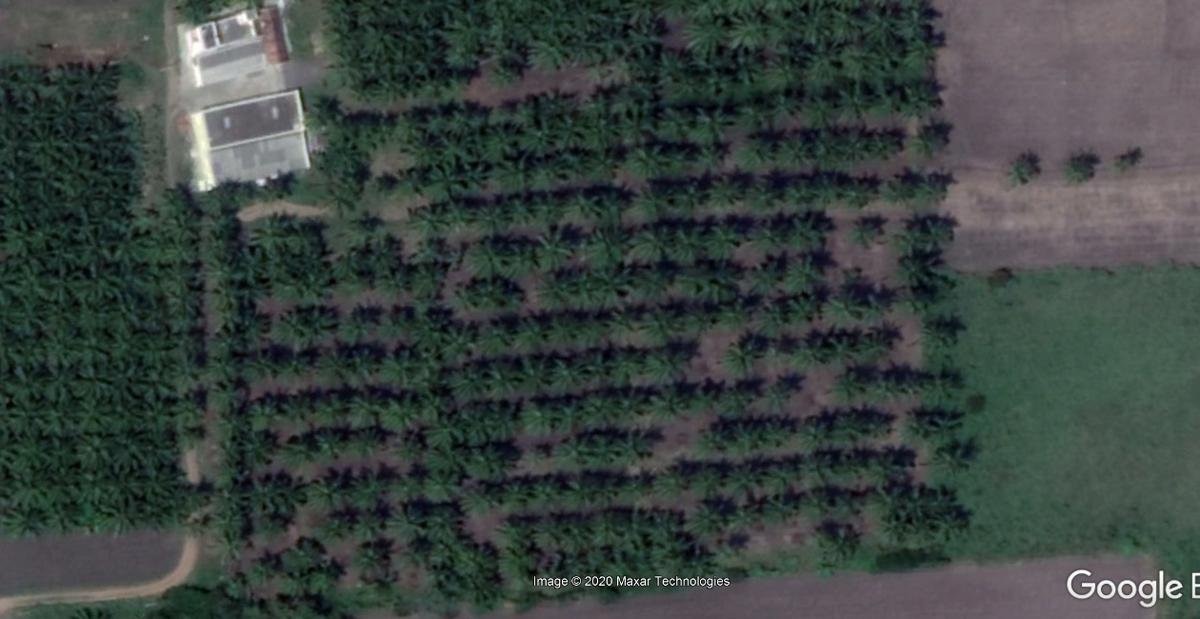coconut: (529, 219, 578, 277), (582, 222, 633, 272), (251, 210, 302, 258), (732, 1, 780, 51), (451, 539, 503, 584), (578, 263, 628, 307), (838, 41, 891, 82), (543, 103, 588, 150), (501, 312, 550, 355), (63, 390, 115, 430), (612, 94, 652, 146), (319, 133, 366, 177), (524, 31, 574, 72), (312, 339, 351, 391), (542, 304, 589, 346), (725, 334, 773, 375), (752, 289, 800, 330), (528, 512, 576, 553), (693, 264, 742, 304), (606, 340, 650, 384), (510, 118, 553, 163), (462, 236, 507, 279), (686, 22, 732, 64), (807, 479, 859, 516), (442, 359, 482, 407), (134, 493, 183, 532), (380, 343, 420, 390), (421, 135, 476, 169), (722, 463, 775, 498), (76, 258, 121, 299), (244, 343, 285, 388), (254, 473, 295, 518), (789, 208, 829, 254), (520, 394, 569, 431), (67, 439, 116, 475), (483, 357, 525, 399), (446, 12, 489, 53), (480, 117, 520, 161), (633, 261, 673, 305), (361, 228, 401, 272), (430, 409, 466, 457), (307, 386, 347, 429), (303, 467, 346, 507), (406, 198, 443, 244), (357, 19, 400, 58), (130, 459, 179, 493), (784, 258, 829, 295), (647, 380, 687, 421), (68, 210, 110, 249), (632, 223, 675, 261), (565, 472, 605, 512), (159, 209, 206, 243), (898, 254, 941, 291), (724, 376, 769, 411), (584, 509, 629, 544), (3, 507, 52, 539), (653, 104, 693, 143), (3, 330, 44, 368), (423, 453, 465, 490), (911, 125, 954, 161), (782, 3, 825, 39), (902, 30, 942, 68), (897, 4, 943, 37), (920, 317, 961, 354), (83, 60, 124, 97), (642, 304, 679, 345), (534, 267, 571, 308), (1, 400, 43, 436), (723, 504, 765, 540), (818, 524, 861, 559), (320, 178, 367, 210), (827, 282, 866, 320), (796, 408, 834, 447), (870, 447, 909, 485), (16, 59, 52, 100), (619, 0, 660, 36), (645, 341, 687, 376), (932, 437, 975, 471), (907, 79, 945, 117), (827, 0, 866, 37), (830, 366, 869, 403), (739, 132, 778, 169), (652, 462, 691, 499), (529, 470, 566, 509), (579, 390, 619, 426), (276, 304, 321, 336), (630, 182, 671, 217), (642, 513, 691, 542), (625, 148, 668, 181), (340, 299, 372, 343), (760, 55, 798, 92), (707, 222, 745, 259), (614, 429, 652, 466), (410, 259, 448, 296), (922, 213, 957, 253), (480, 320, 521, 354), (920, 362, 957, 399), (763, 86, 800, 123), (670, 225, 707, 262), (687, 499, 724, 536), (441, 322, 478, 359), (919, 167, 955, 205), (8, 267, 44, 305), (548, 350, 586, 386), (283, 430, 319, 468), (842, 82, 877, 121), (570, 191, 609, 226), (615, 379, 650, 418), (859, 5, 900, 38), (353, 539, 394, 572), (161, 289, 206, 319), (743, 257, 779, 294), (375, 71, 411, 108), (846, 213, 881, 251), (676, 177, 714, 212), (505, 235, 540, 273), (476, 195, 510, 234), (3, 299, 43, 332), (801, 95, 837, 131), (896, 210, 923, 258), (389, 496, 425, 532), (99, 498, 134, 535), (210, 250, 247, 285), (761, 412, 796, 449), (2, 166, 40, 200), (380, 391, 414, 429), (72, 363, 111, 396), (325, 254, 364, 287), (428, 504, 460, 544), (660, 43, 696, 78), (207, 319, 243, 354), (8, 473, 45, 507), (6, 225, 40, 262), (420, 303, 458, 336), (829, 409, 869, 440), (160, 234, 201, 264), (348, 471, 383, 506), (931, 506, 965, 542), (882, 511, 918, 545), (793, 330, 829, 364), (819, 169, 855, 203), (709, 173, 748, 204), (884, 169, 919, 203), (797, 445, 832, 479), (1005, 154, 1038, 190), (904, 486, 940, 519), (869, 126, 905, 159), (782, 130, 815, 166), (208, 503, 244, 536), (805, 49, 842, 81), (159, 262, 197, 293), (870, 362, 901, 400), (1056, 153, 1098, 181), (277, 389, 306, 429), (766, 459, 800, 493), (376, 269, 410, 303), (745, 176, 780, 209), (27, 122, 59, 158), (11, 439, 50, 468), (110, 325, 149, 354), (206, 178, 239, 212), (208, 378, 242, 411), (700, 416, 733, 450), (560, 431, 593, 465), (343, 348, 376, 382), (208, 280, 243, 312), (437, 192, 469, 227), (503, 191, 534, 227), (261, 171, 297, 202), (501, 473, 538, 503), (351, 511, 390, 539), (859, 323, 893, 355), (346, 73, 378, 107), (698, 110, 734, 140), (165, 350, 198, 382), (865, 411, 896, 445), (484, 58, 520, 87), (678, 557, 715, 585), (929, 404, 961, 436), (210, 535, 243, 566), (691, 466, 720, 501), (848, 174, 879, 204), (766, 377, 796, 408), (442, 104, 474, 133), (697, 141, 732, 167), (829, 329, 859, 359), (692, 373, 722, 403), (621, 473, 657, 498), (838, 136, 865, 169), (786, 173, 819, 200), (210, 219, 246, 243), (1114, 144, 1144, 172), (158, 186, 189, 213), (210, 437, 248, 459), (383, 300, 410, 330), (215, 478, 249, 501), (172, 394, 202, 420), (211, 354, 243, 378), (740, 422, 765, 452), (218, 414, 249, 437), (539, 189, 560, 220)
